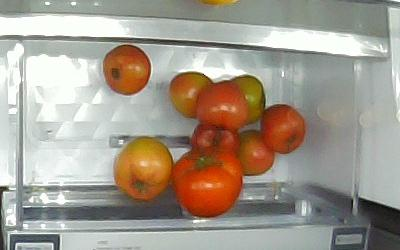tomato: (173, 147, 244, 219), (114, 137, 173, 199), (104, 45, 151, 97), (261, 104, 306, 154), (197, 83, 249, 126), (168, 71, 213, 117), (228, 73, 267, 125), (192, 121, 239, 163), (236, 130, 275, 176)
